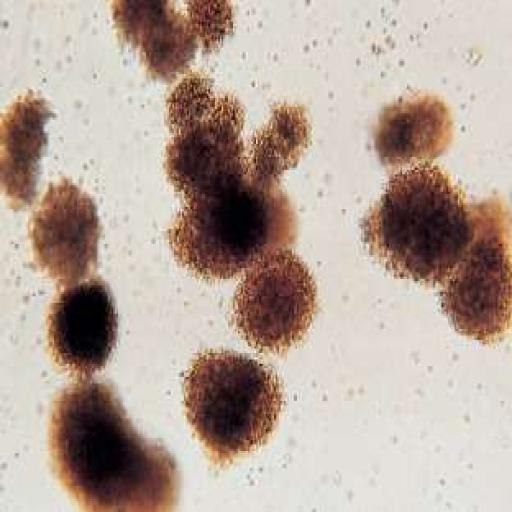BFU-E: (164, 72, 315, 351), (364, 94, 510, 340), (30, 179, 117, 370), (53, 381, 177, 510), (185, 351, 282, 462), (110, 0, 230, 78), (0, 89, 51, 207)
